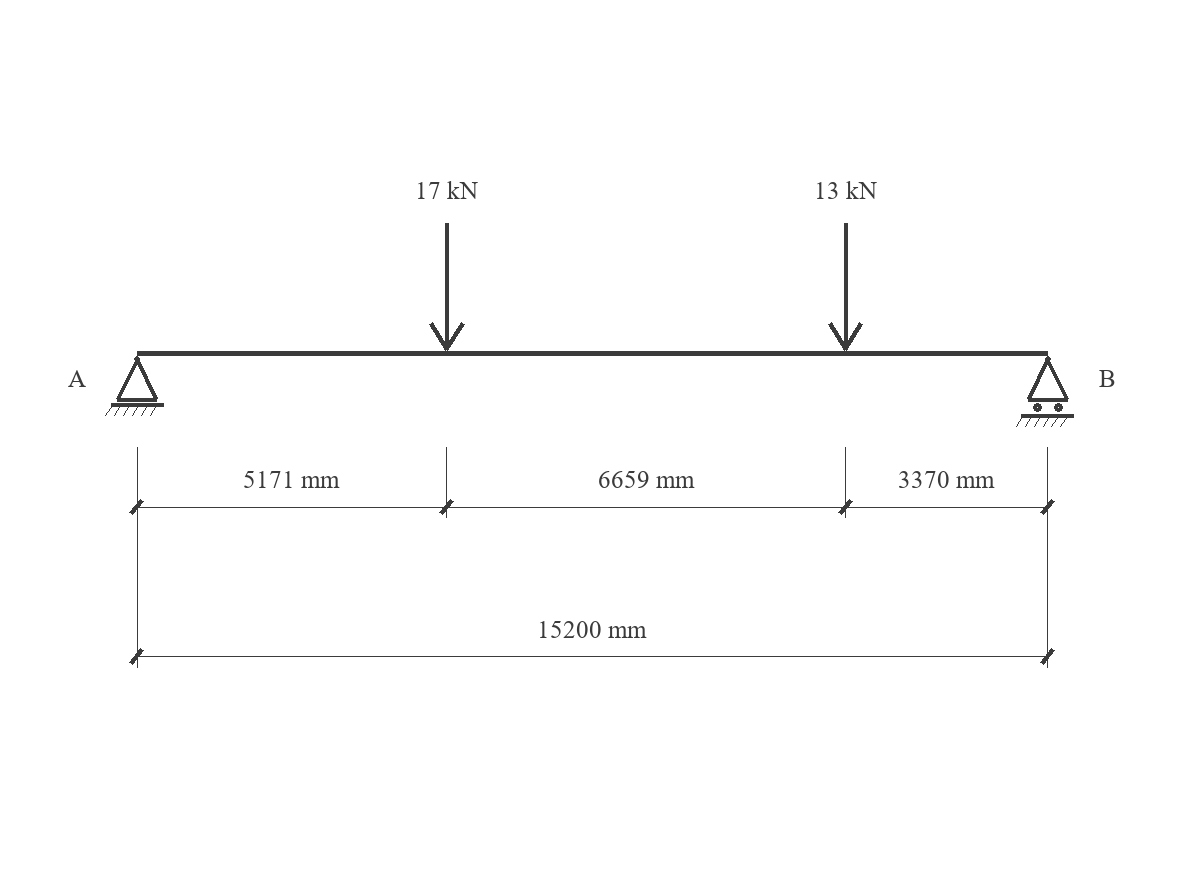pin_support: (105, 356, 164, 416)
point_load: (429, 223, 465, 351), (828, 223, 863, 351)
roller_support: (1016, 356, 1074, 427)
